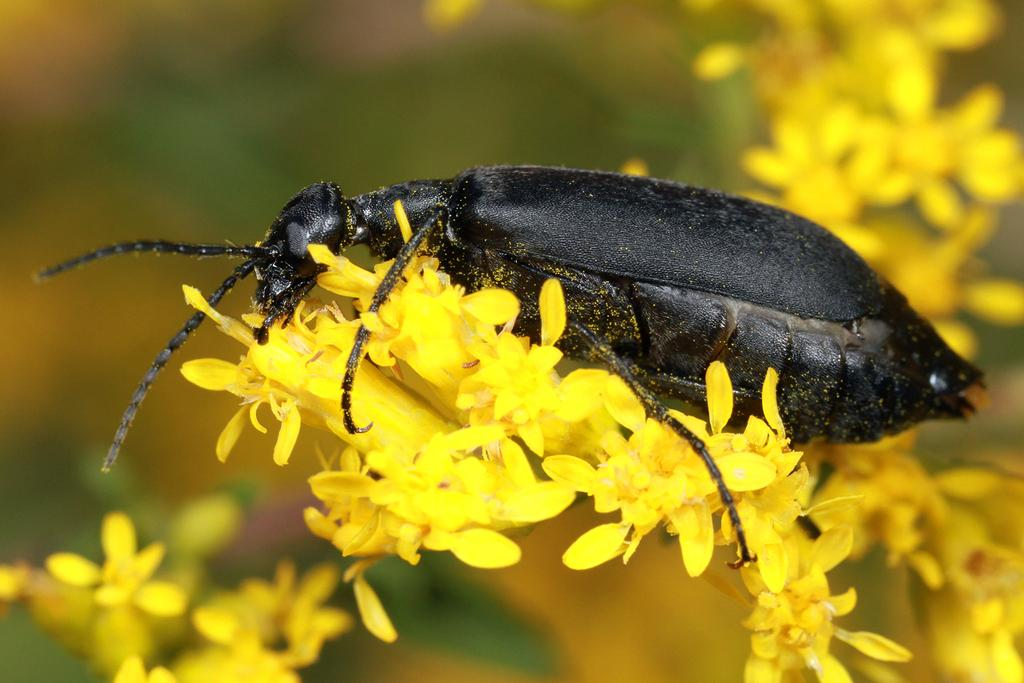blister_beetle: (0, 3, 1024, 683)
